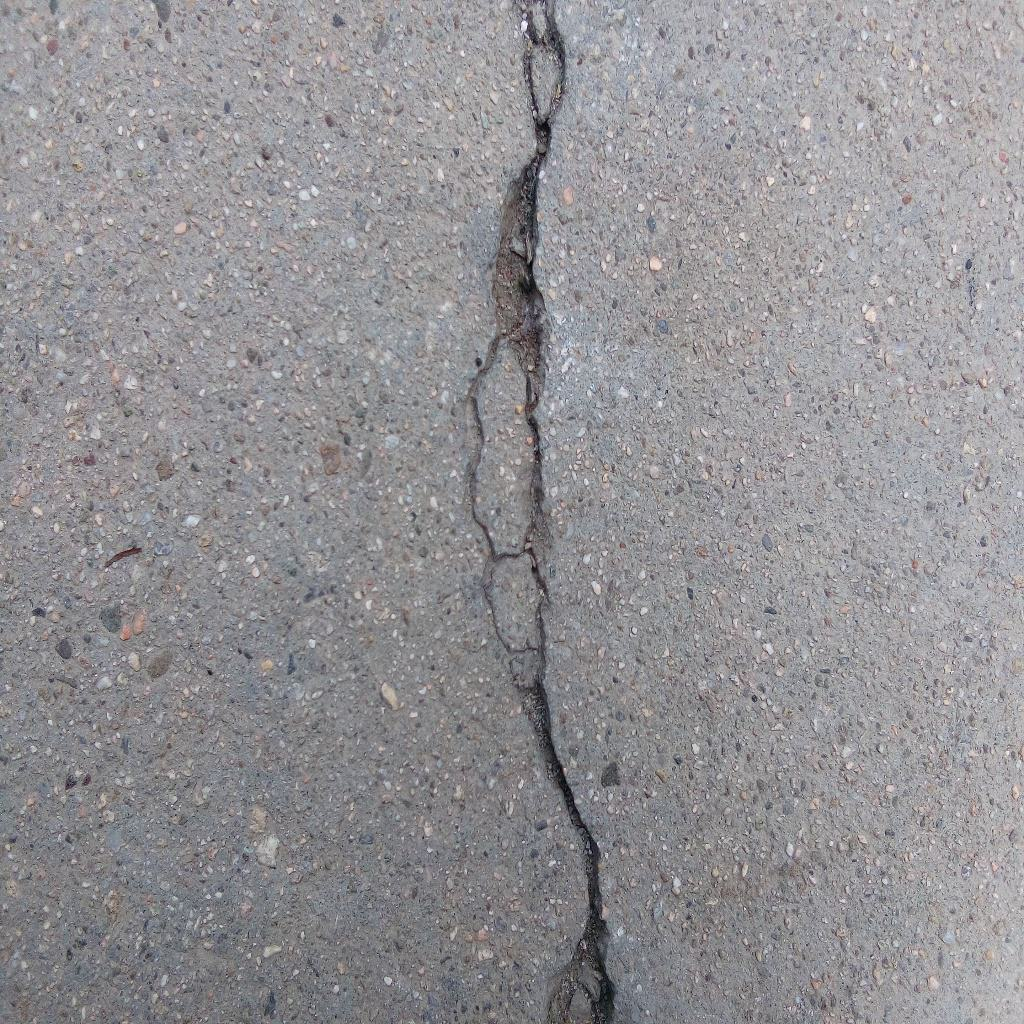Crack: (465, 1, 618, 1024)
